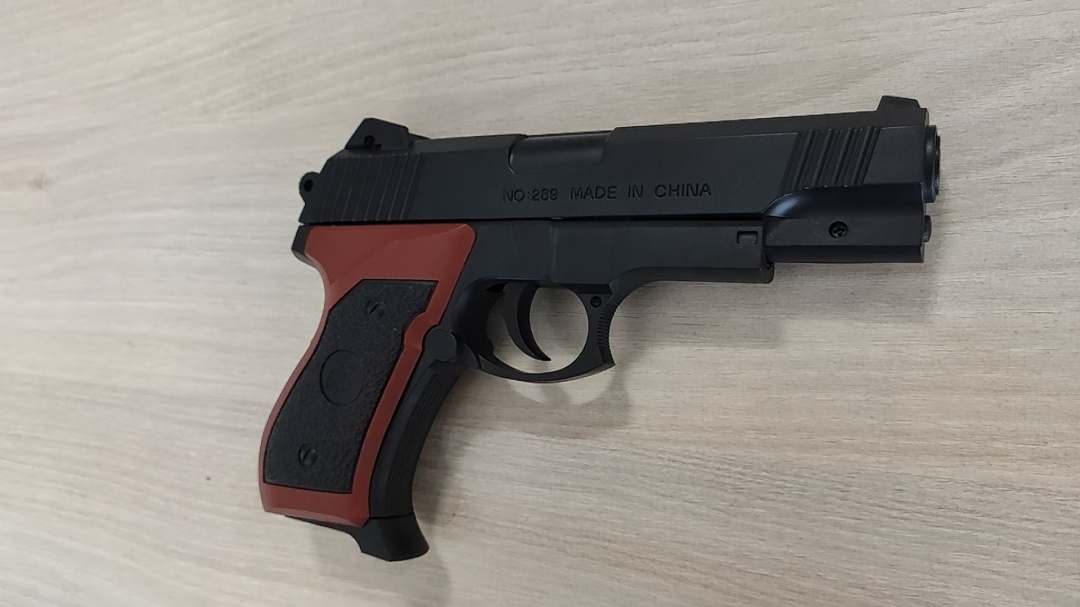gun: (498, 240, 558, 333)
